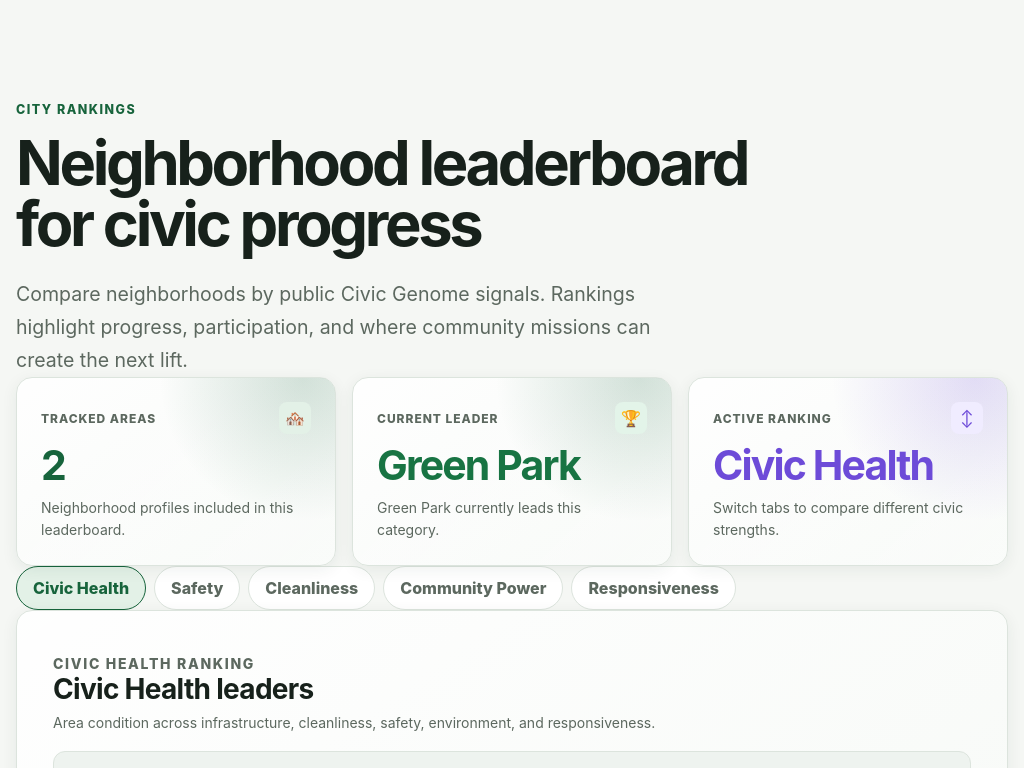
Scenario: Neighborhood Arena › renders city rankings and sorts by the active ranking tab
The image size is (1024, 768).
Expected: the heading "Neighborhood leaderboard for civic progress" is shown, [16,133,836,254]
Expected: the text "Tracked Areas" is shown, [41,411,156,426]
What coordinates should you click on to do the following:
click the tab "Safety"
I would click on:
 (197, 588)
Its box is [154,566,240,610].
(page scrolled)
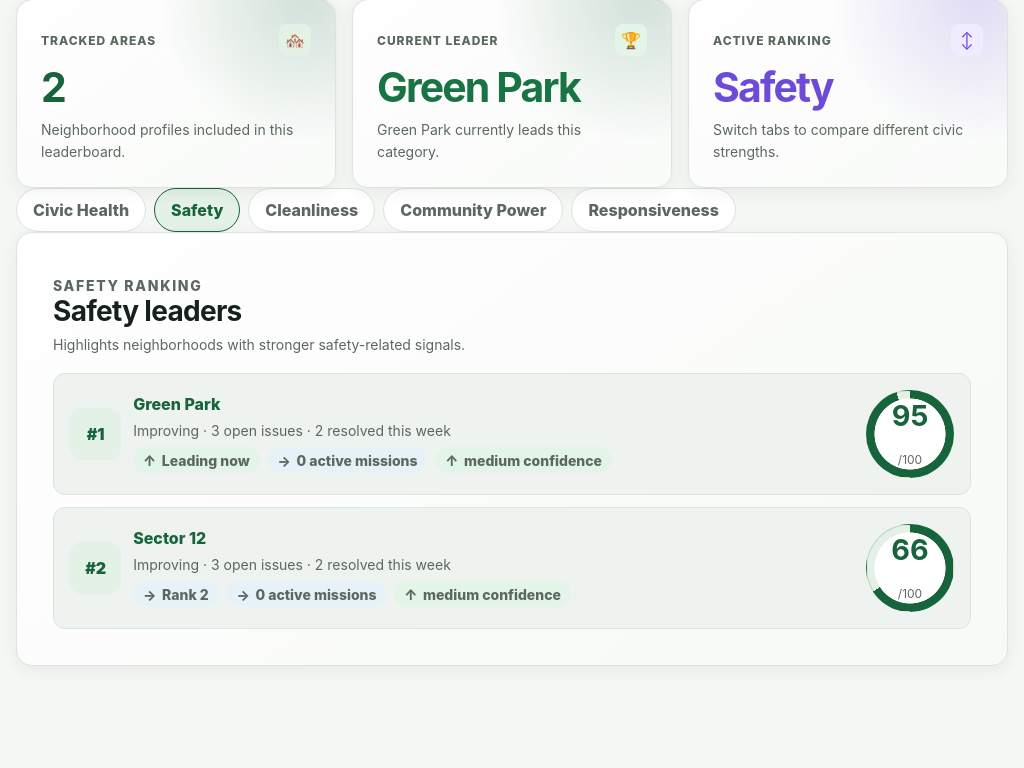
Expected: the link "Green Park" is shown, [133,394,220,414]
Result: the heading "Safety leaders" is shown at [53,294,242,328]
